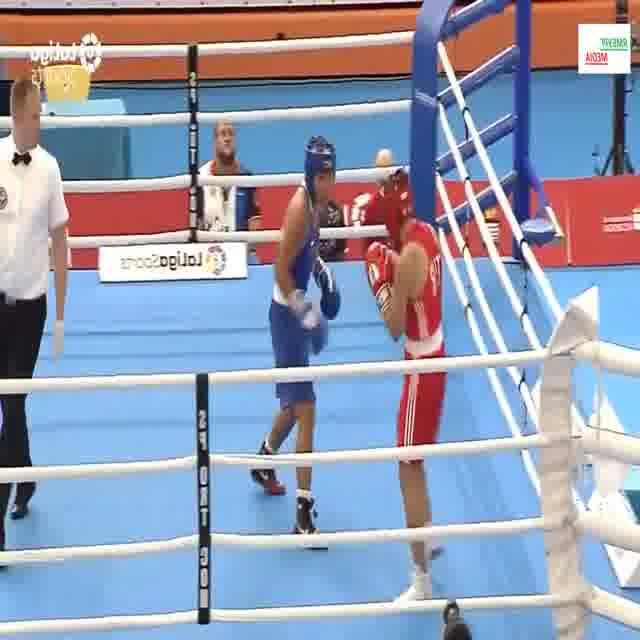blue-player: (250, 132, 346, 552)
red-player: (362, 169, 448, 616)
referee: (0, 75, 69, 572)
